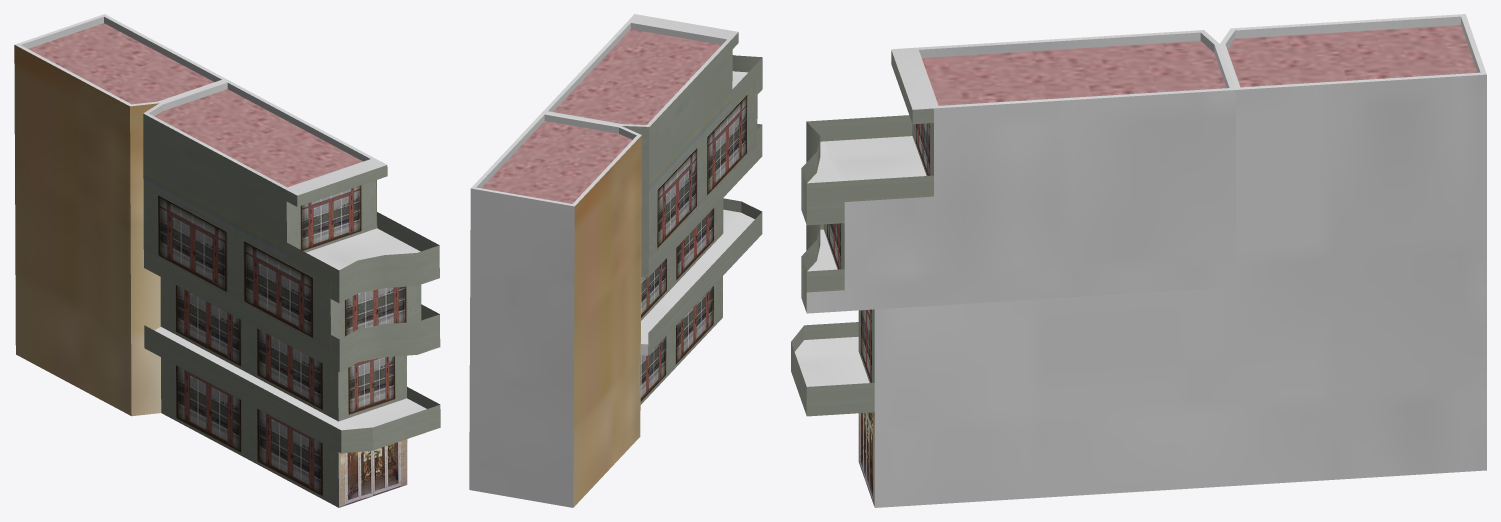
3 views of the same model, side by side, from view 1: azimuth 30°, elevation 25°; view 2: azimuth 150°, elevation 25°; view 3: azimuth 270°, elevation 25° (orthographic). The views are drawn at different scales.
Parts seen in each view (by area): view 1: 5dafff475bb8830f98dcff2d.001; view 2: 5dafff475bb8830f98dcff2d.001; view 3: 5dafff475bb8830f98dcff2d.001.
Part boxes in pixels (box(x1,y1,x2,y2)): 5dafff475bb8830f98dcff2d.001: box(14, 14, 440, 507); 5dafff475bb8830f98dcff2d.001: box(469, 14, 762, 507); 5dafff475bb8830f98dcff2d.001: box(791, 14, 1486, 507).
Bounding box in the file's own units: 8.88 × 15.76 × 25.11.
1 material, 1 textured.
